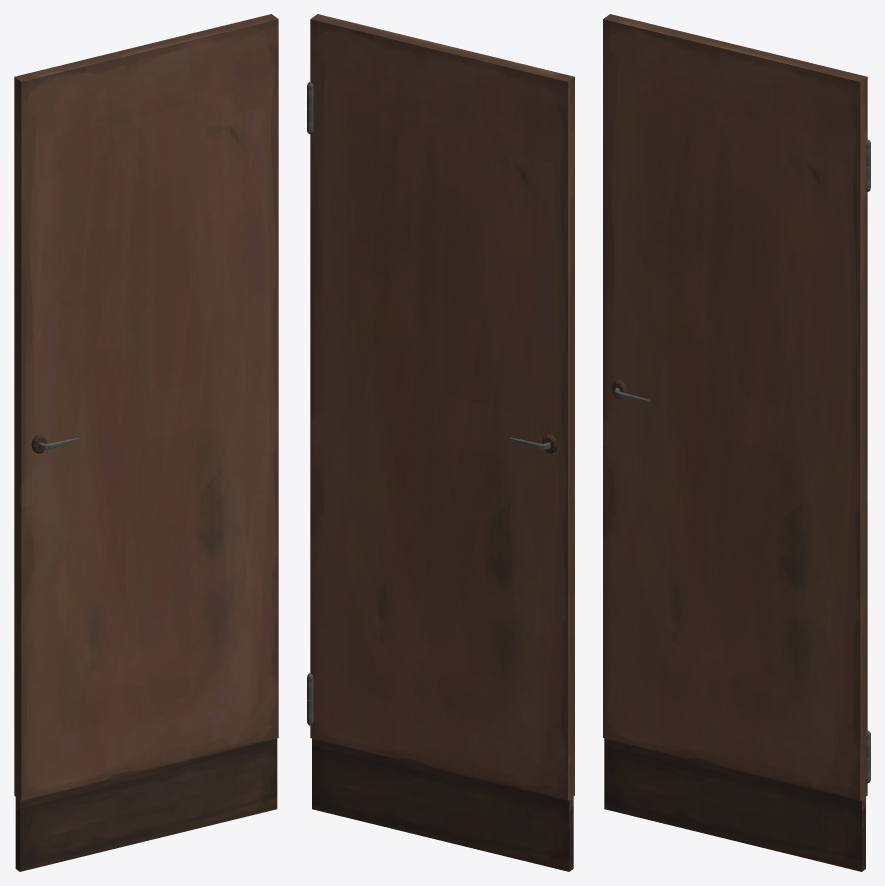
File: Puerta_H1.obj
3 renders of one model, left to right at view 1: azimuth 30°, elevation 25°; view 2: azimuth 150°, elevation 25°; view 3: azimuth 330°, elevation 25°, orthographic.
Parts seen in each view (by area): view 1: Puerta_H1; view 2: Puerta_H1; view 3: Puerta_H1.
Boxes of the visible parts, x1=… form: Puerta_H1: x1=14, y1=14, x2=278, y2=871; Puerta_H1: x1=307, y1=14, x2=574, y2=871; Puerta_H1: x1=603, y1=14, x2=870, y2=871.
Bounding box in the file's own units: 0.557 × 1.62 × 0.0763.
Materials: 1 (1 with a texture image).
